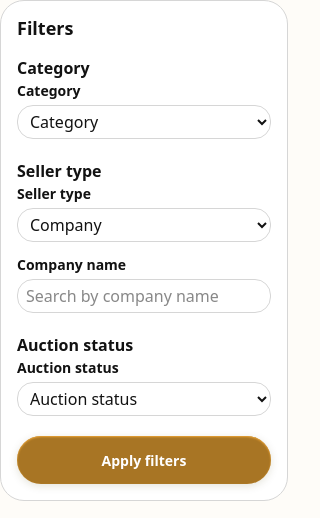
2. Filters › hides company name filter when seller type is cleared
Expected: the search field labelled "Company name" is shown, x1=17 y1=279 x2=271 y2=313
Select "Seller type" in the dropdown labelled "Seller type" at [144, 225], box x1=17 y1=208 x2=271 y2=242
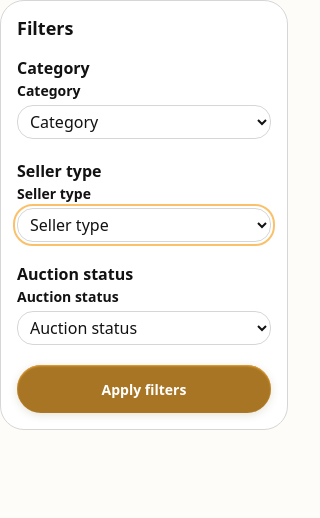
Result: the label labelled "Company name" is gone
